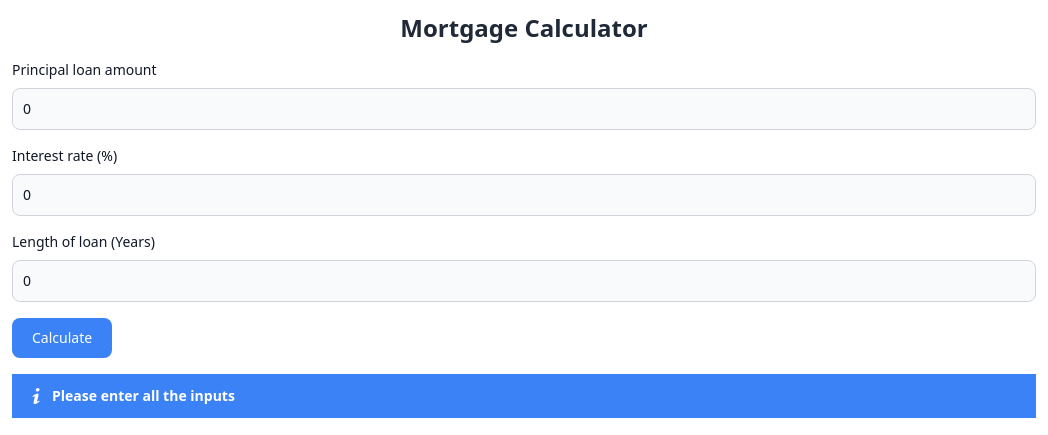
Test: Mortgage Calculator › calculates monthly mortgage when calculateButtonis clicked
Replace the text in the number field with test id "principal-loan-amount-input" with "500000" at (524, 109), box [12,88,1036,130]
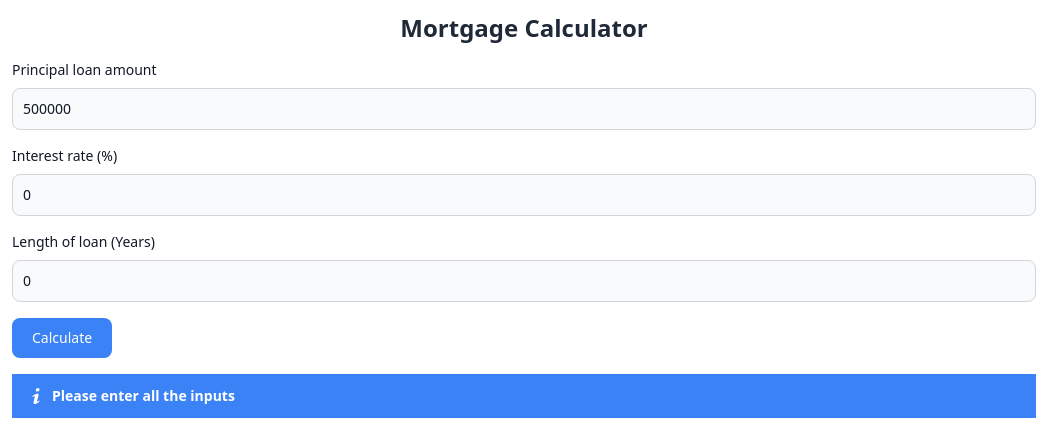
Replace the text in the number field with test id "interest-rate-input" with "3" at (524, 195), box [12,174,1036,216]
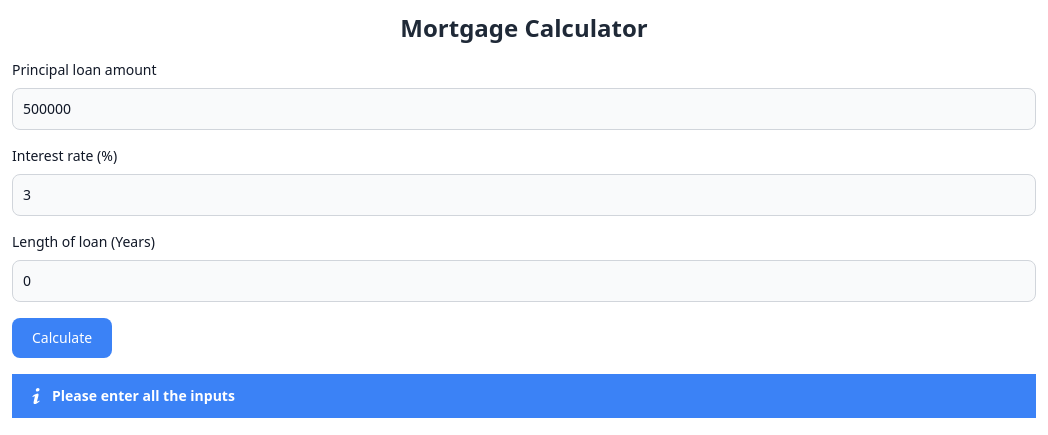
Replace the text in the number field with test id "length-of-loan-input" with "30" at (524, 281), box [12,260,1036,302]
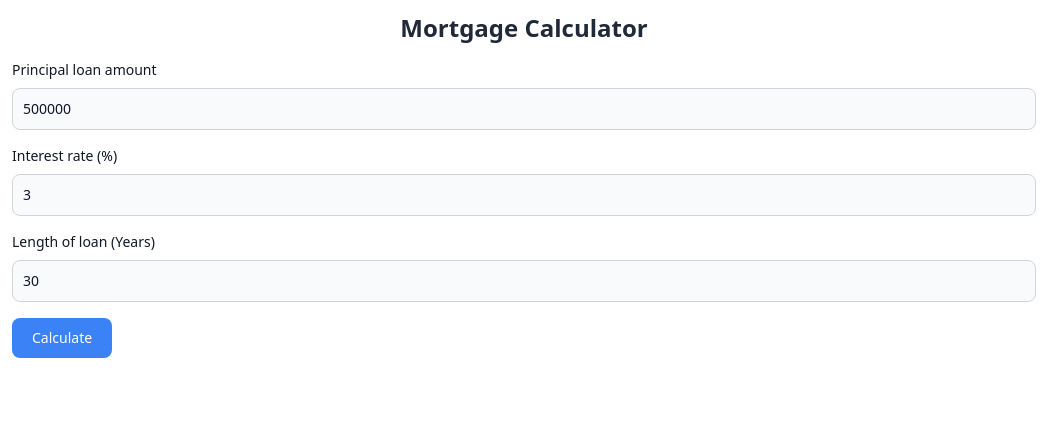
Click the button "Calculate" at (62, 338), box [12,318,112,358]
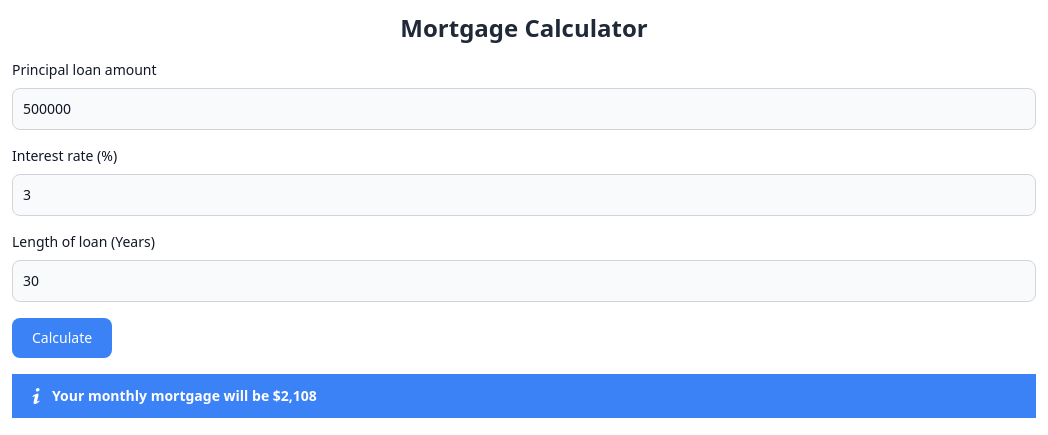
Expected: the text "Your monthly mortgage will be $2,108" is shown, [52,386,317,406]
